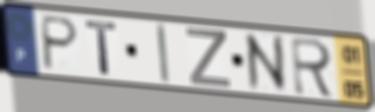I: (154, 22, 172, 86)
N: (241, 31, 291, 94)
P: (41, 13, 81, 73)
R: (289, 35, 337, 101)
T: (84, 19, 120, 78)
Z: (184, 26, 234, 91)
